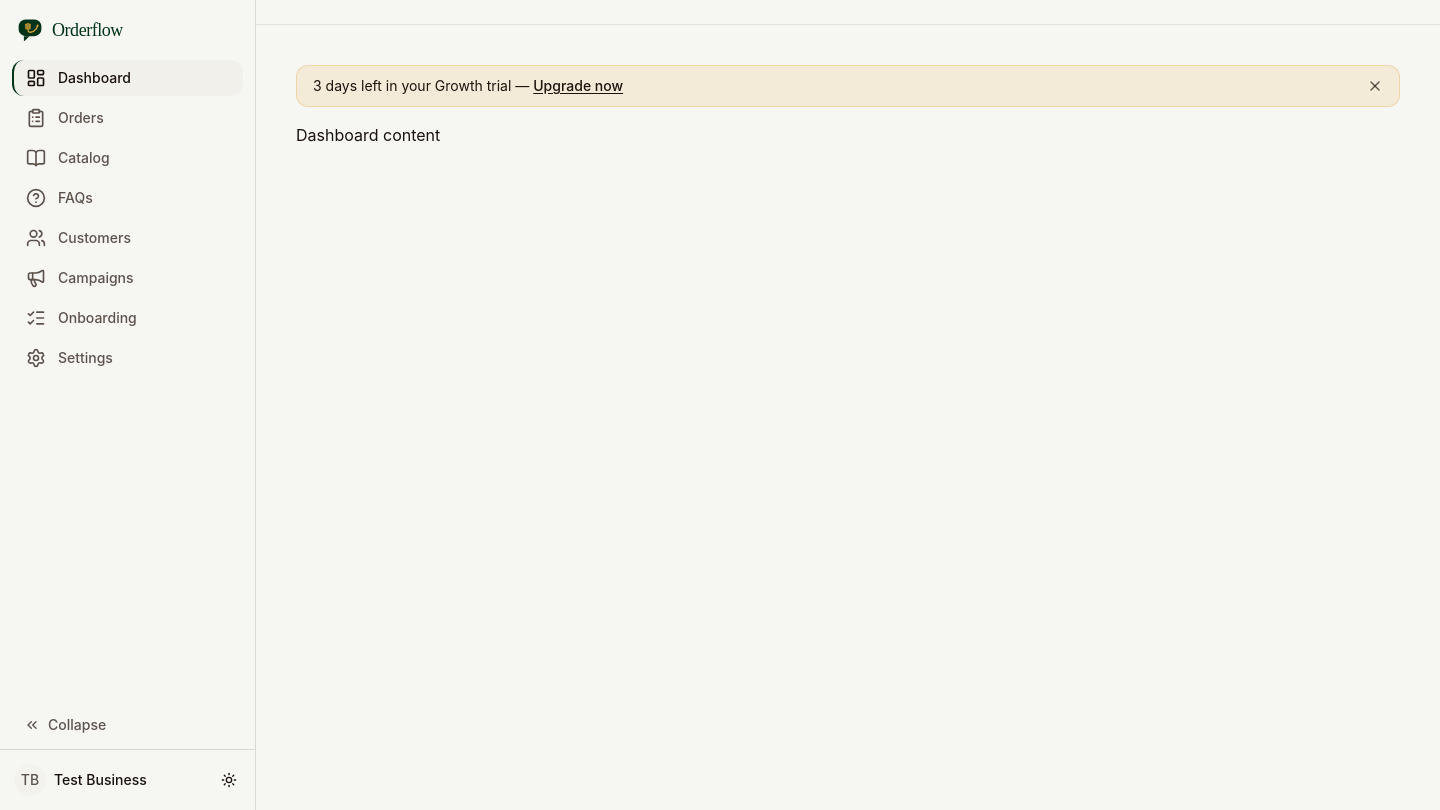
it: Layout trial banner › dismisses the banner for the rest of the session when the close button is clicked
Click the button named "Dismiss" at (1375, 86), box [1367, 78, 1383, 94]
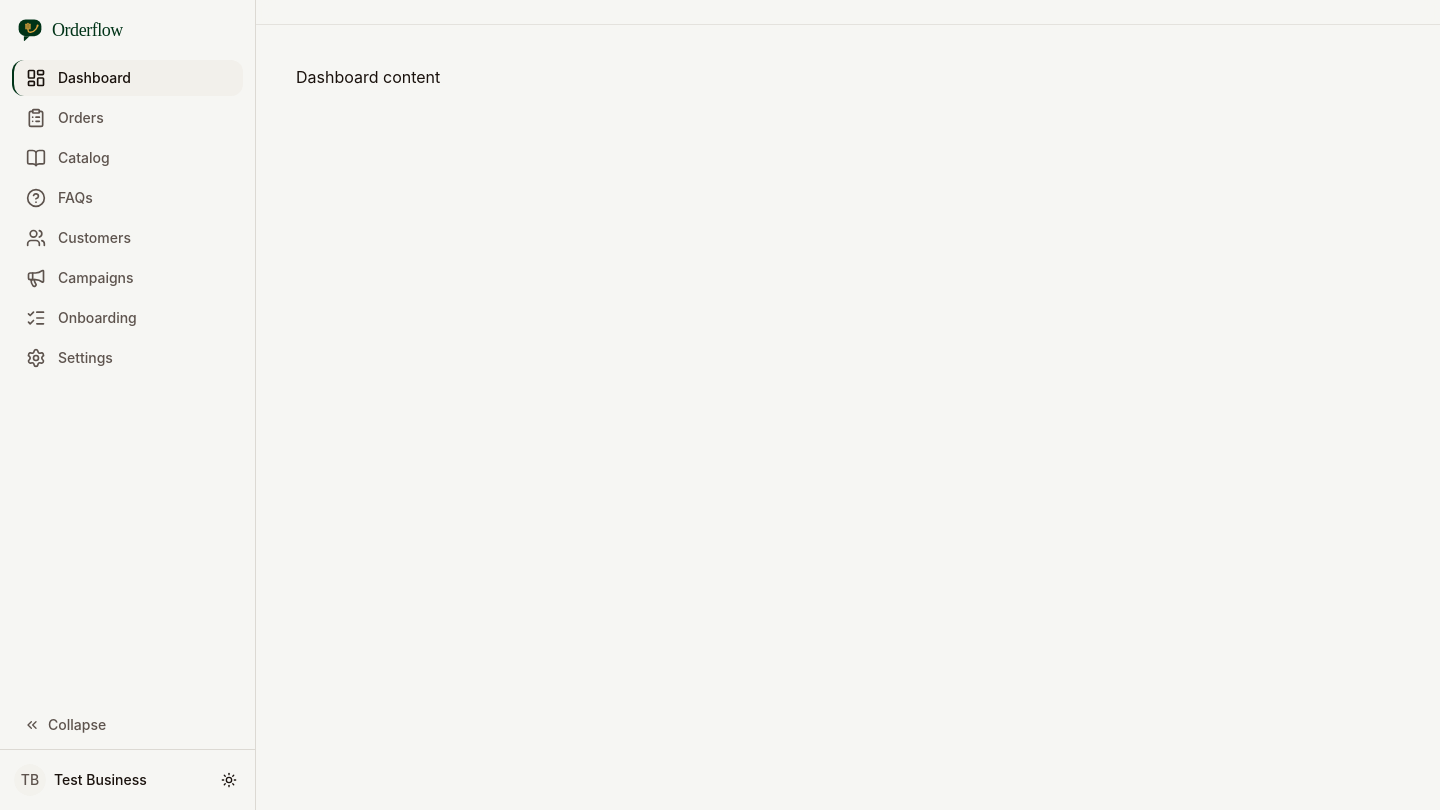
Check: the text "days left in your Growth trial" is gone
